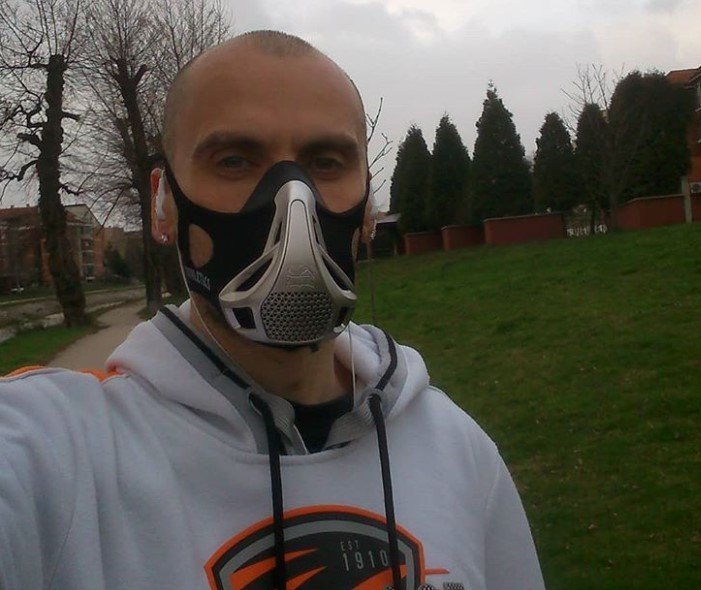face_with_mask: (152, 28, 375, 352)
